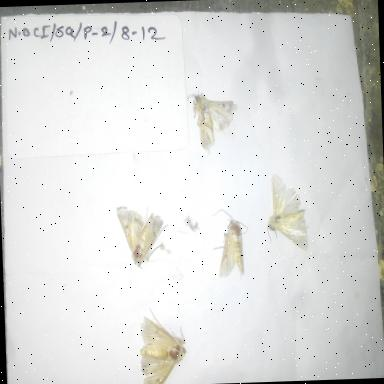abw: (131, 303, 192, 384), (108, 197, 172, 273), (182, 86, 242, 159), (263, 169, 313, 255), (207, 204, 254, 284)
